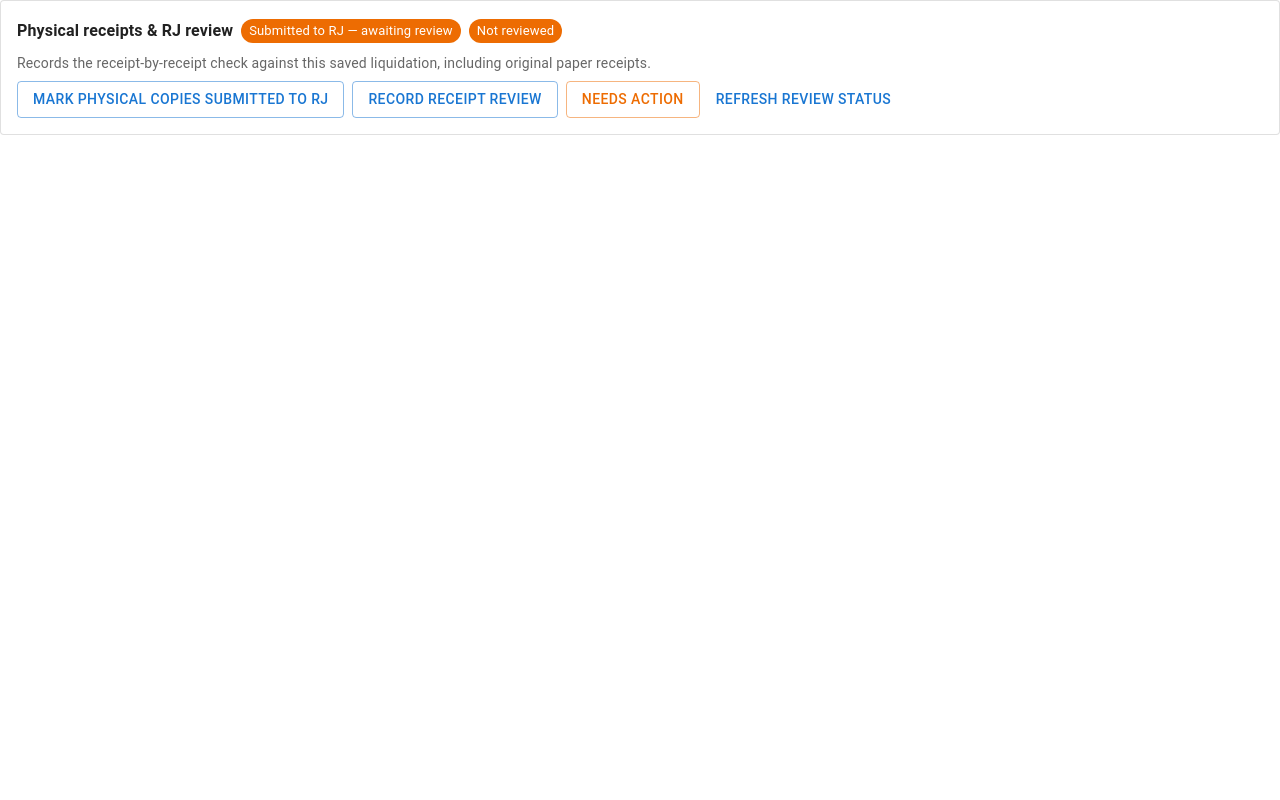
it: records a confirmed manual paper review with actual date and server-controlled reviewer
The image size is (1280, 800).
expect the text "Not reviewed" is shown: met, box x1=477 y1=23 x2=554 y2=38
Step 1. Click the button "Record receipt review" → (455, 99), box x1=352 y1=81 x2=558 y2=118
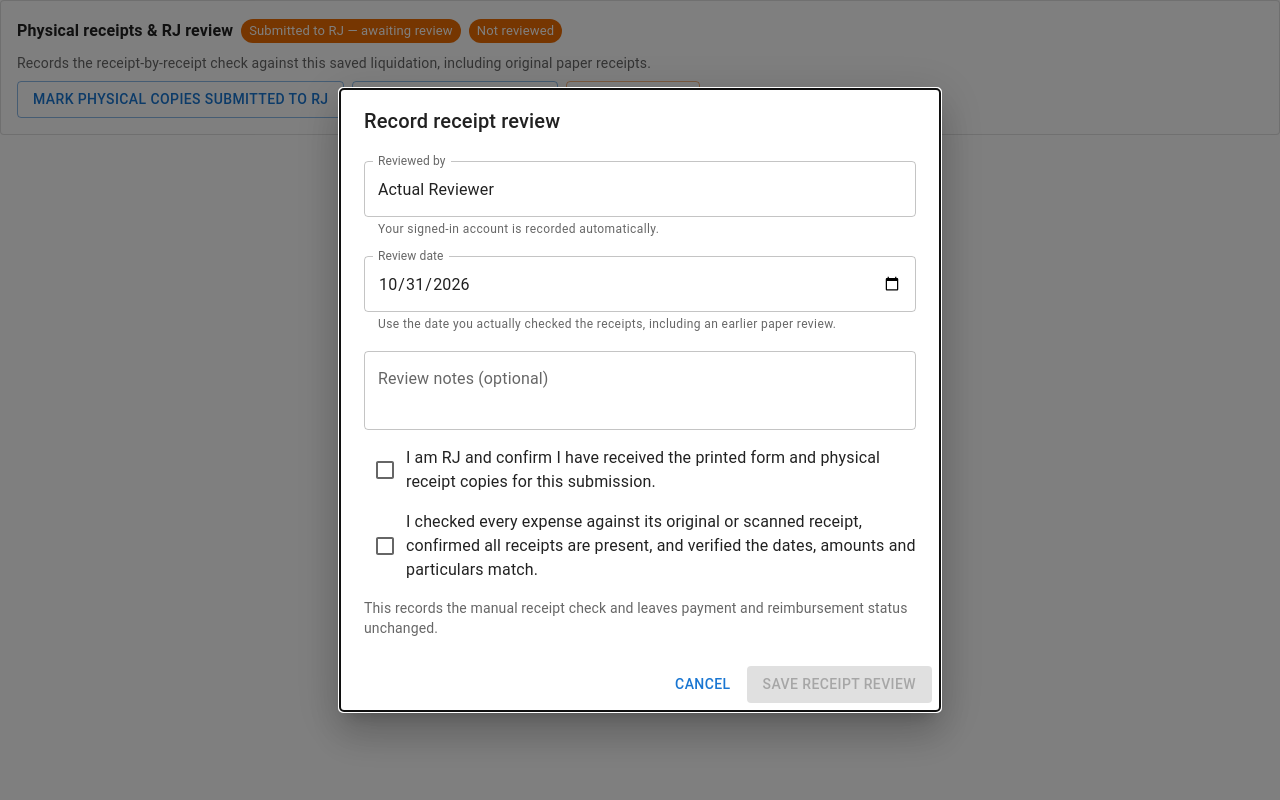
expect the field labelled "Reviewed by" holds "Actual Reviewer": met, box x1=364 y1=161 x2=916 y2=217
expect the button "Save receipt review" is disabled: met, box x1=747 y1=666 x2=932 y2=703
Step 2. Type "2026-10-01" into the date field labelled "Review date" → (640, 284), box x1=364 y1=256 x2=916 y2=312
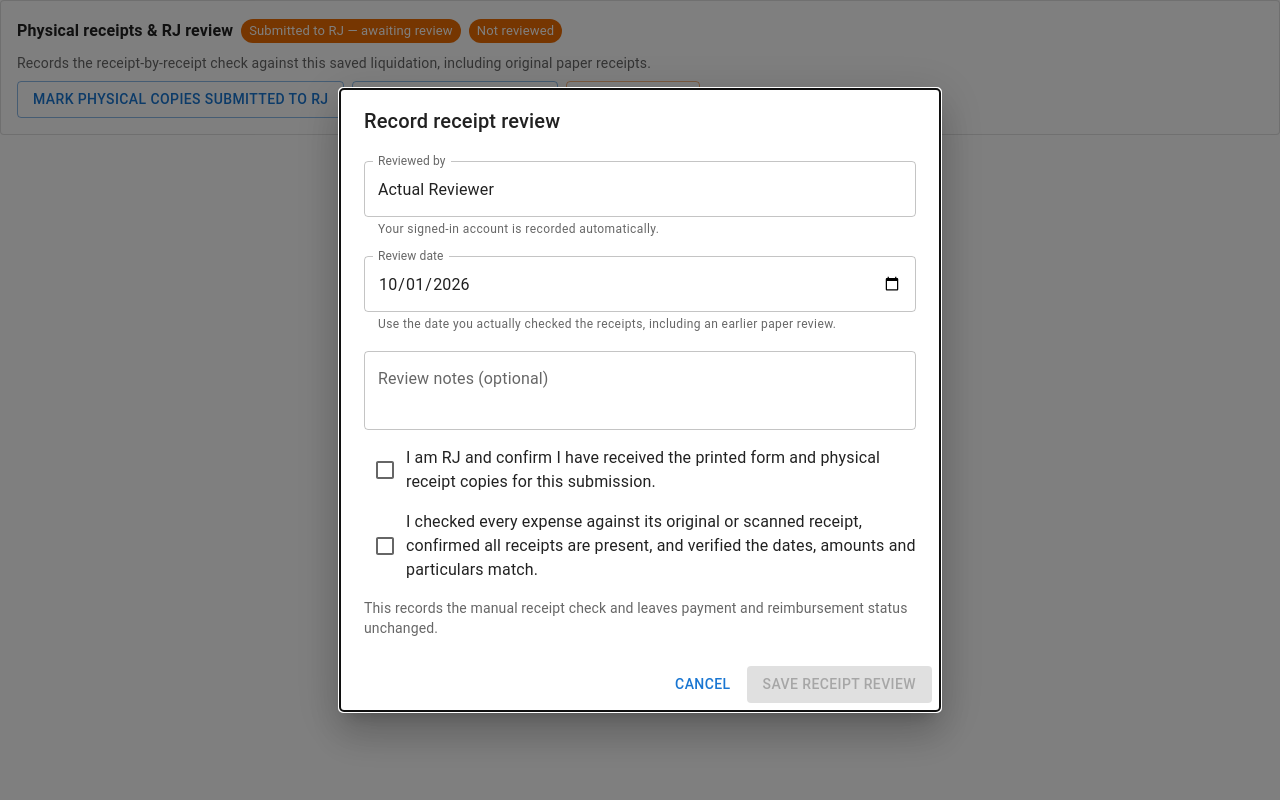
Step 3. Type "Paper originals checked" into the text box labelled "Review notes (optional)" → (640, 391), box x1=378 y1=368 x2=902 y2=414
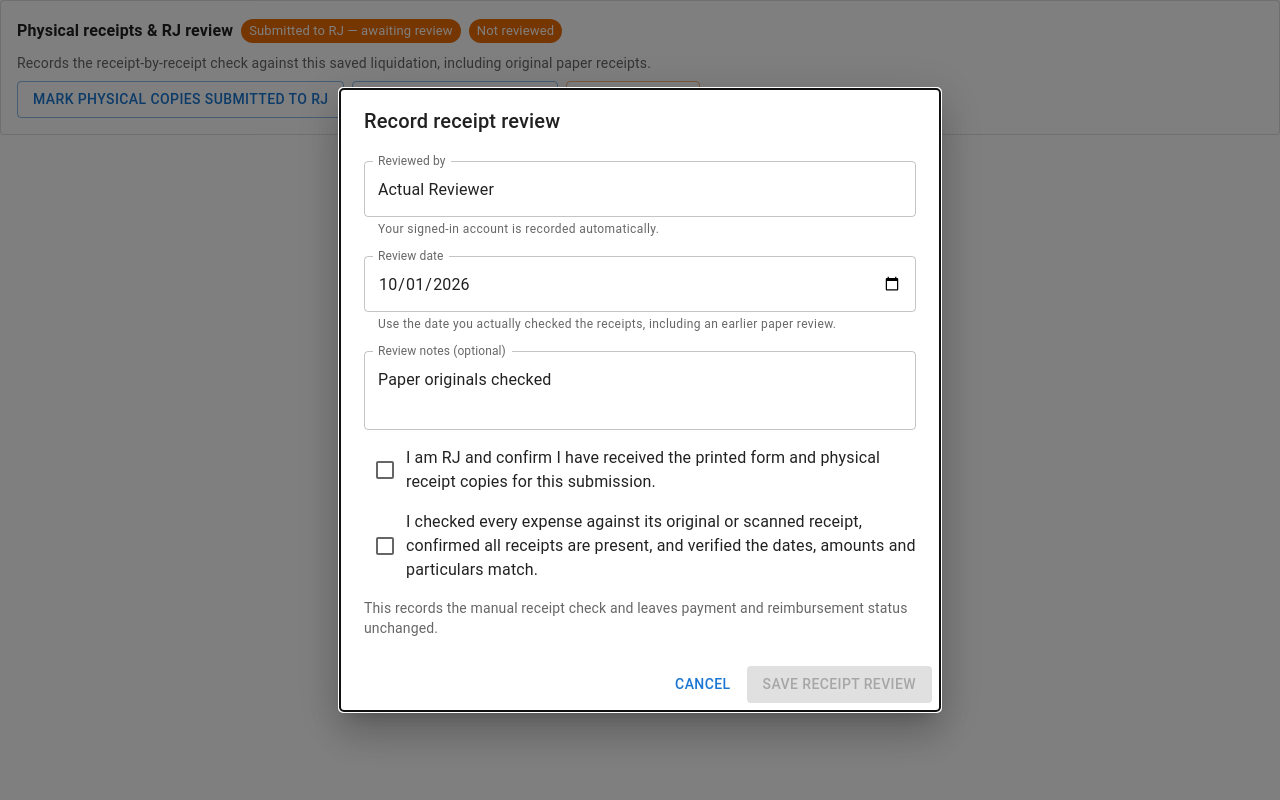
Step 4. Click the 1st checkbox → (640, 470), box x1=364 y1=446 x2=916 y2=494
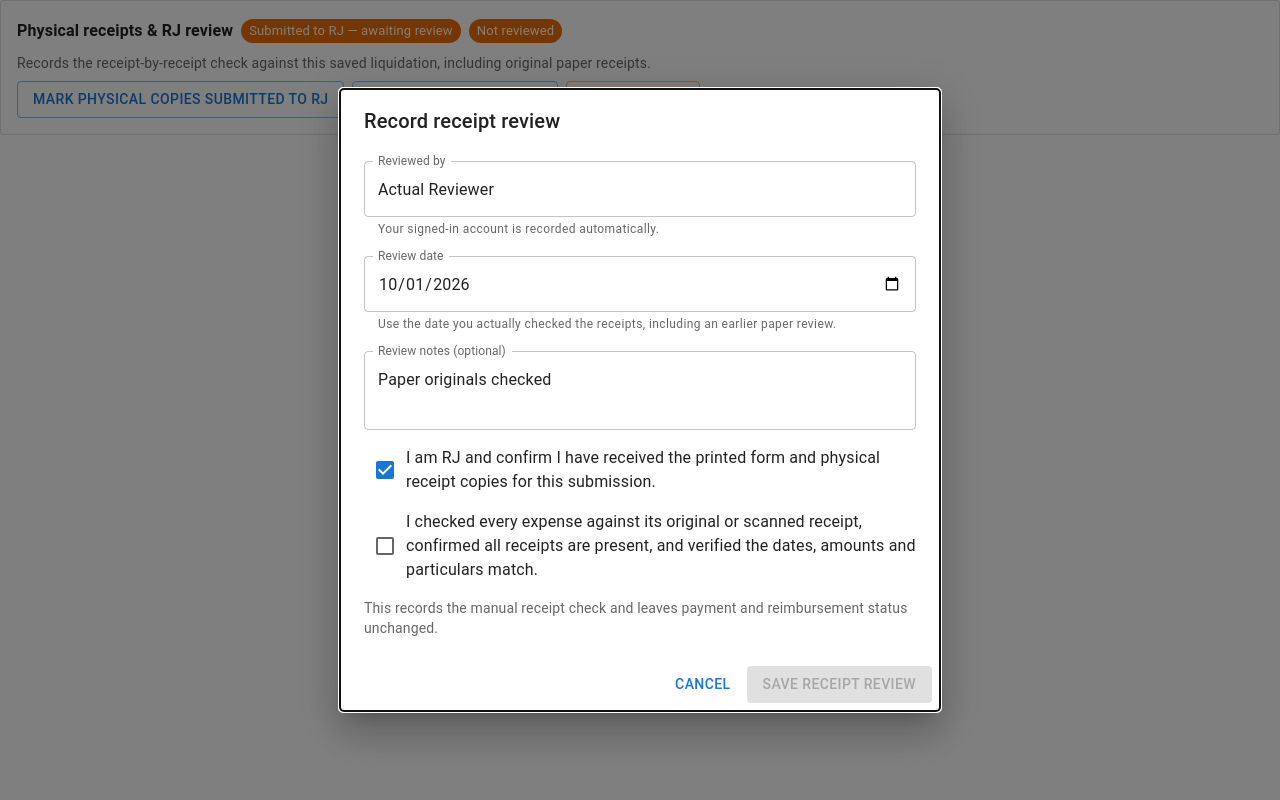
Step 5. Click the 2nd checkbox → (640, 546), box x1=364 y1=510 x2=916 y2=582
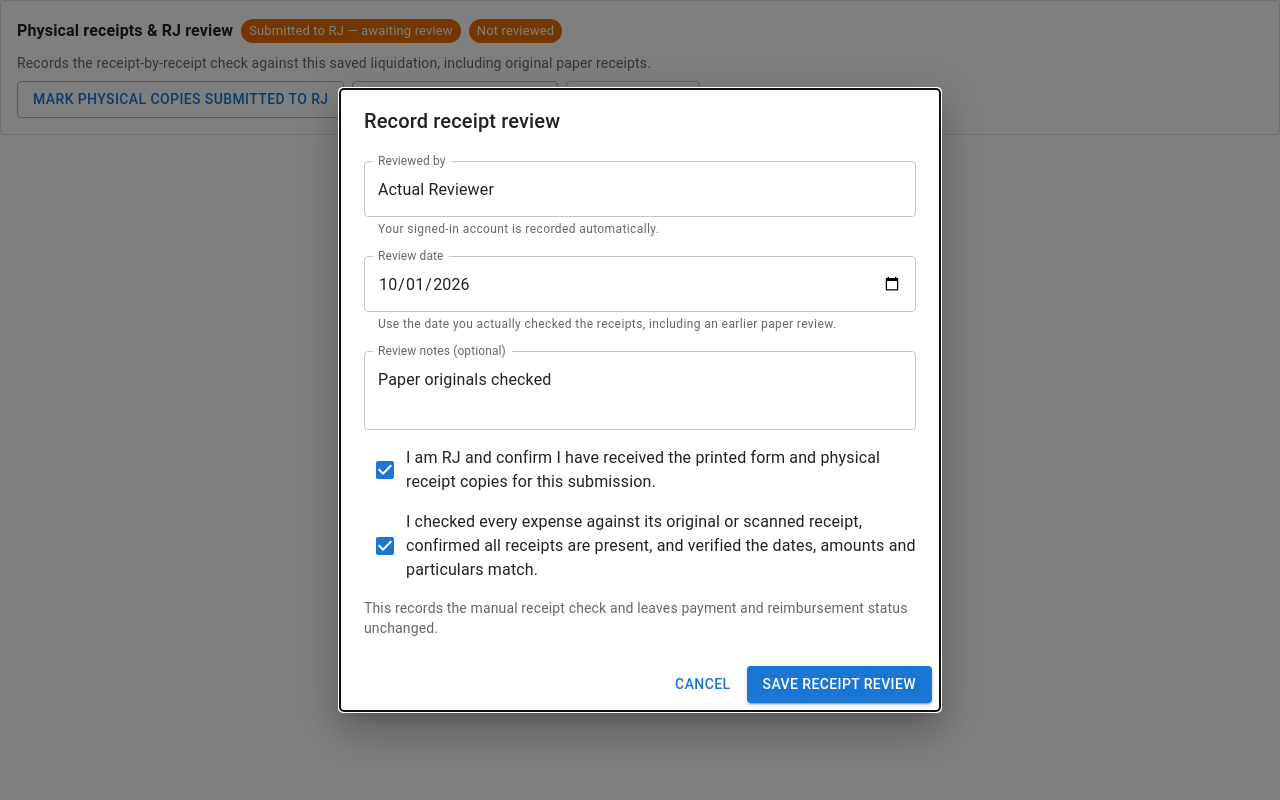
Step 6. Click the button "Save receipt review" → (839, 684), box x1=747 y1=666 x2=932 y2=703
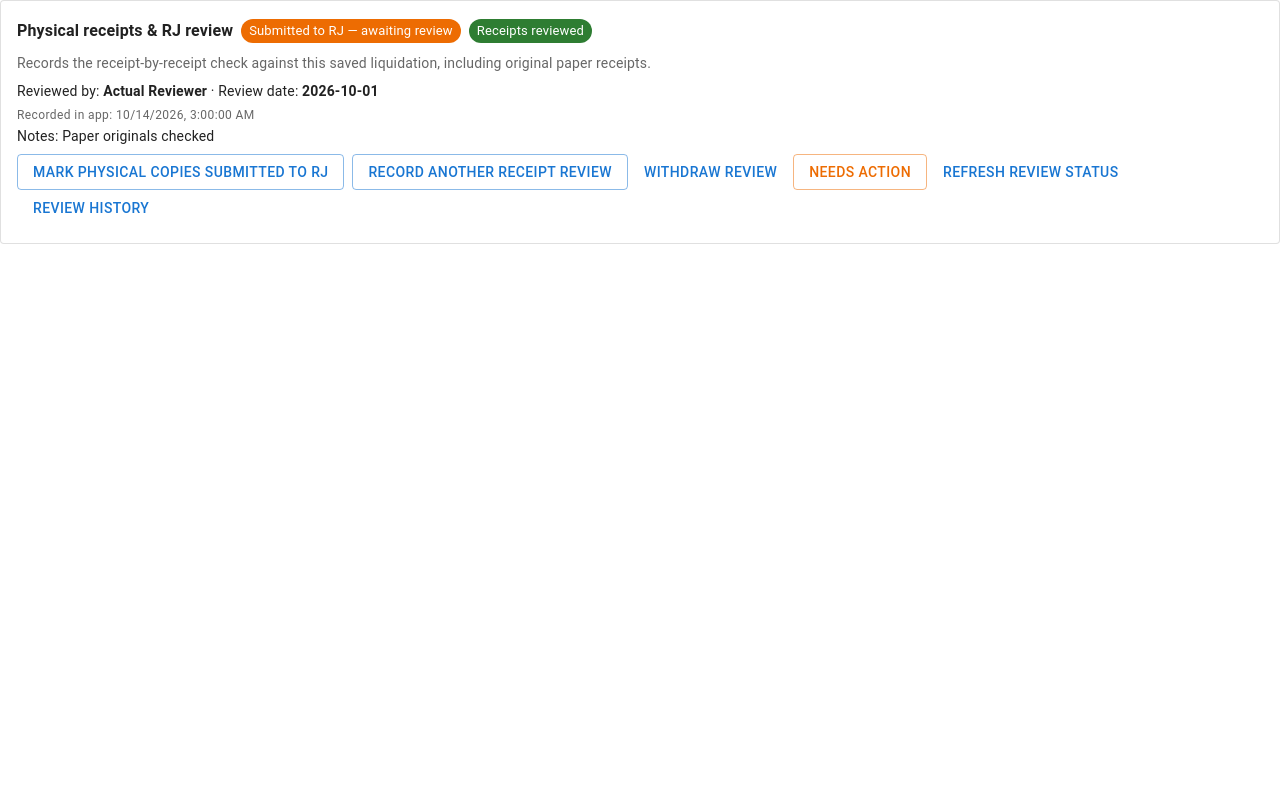
expect the text "Receipts reviewed" is shown: met, box x1=469 y1=21 x2=592 y2=41
expect the text "Actual Reviewer" is shown: met, box x1=103 y1=83 x2=207 y2=99
